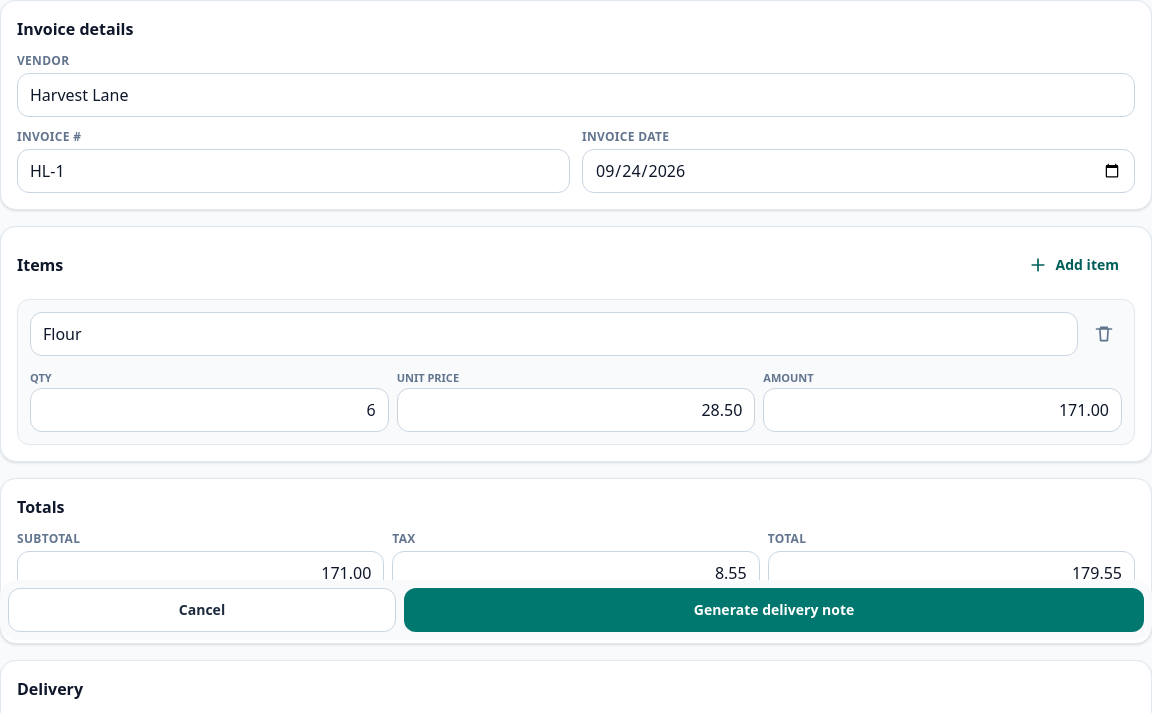
ReviewForm › recomputes a line amount when qty or unit price is edited
Step 1. Replace the text in the number field named "Item 1 quantity" with "10" → (209, 410), box [30,388,389,432]
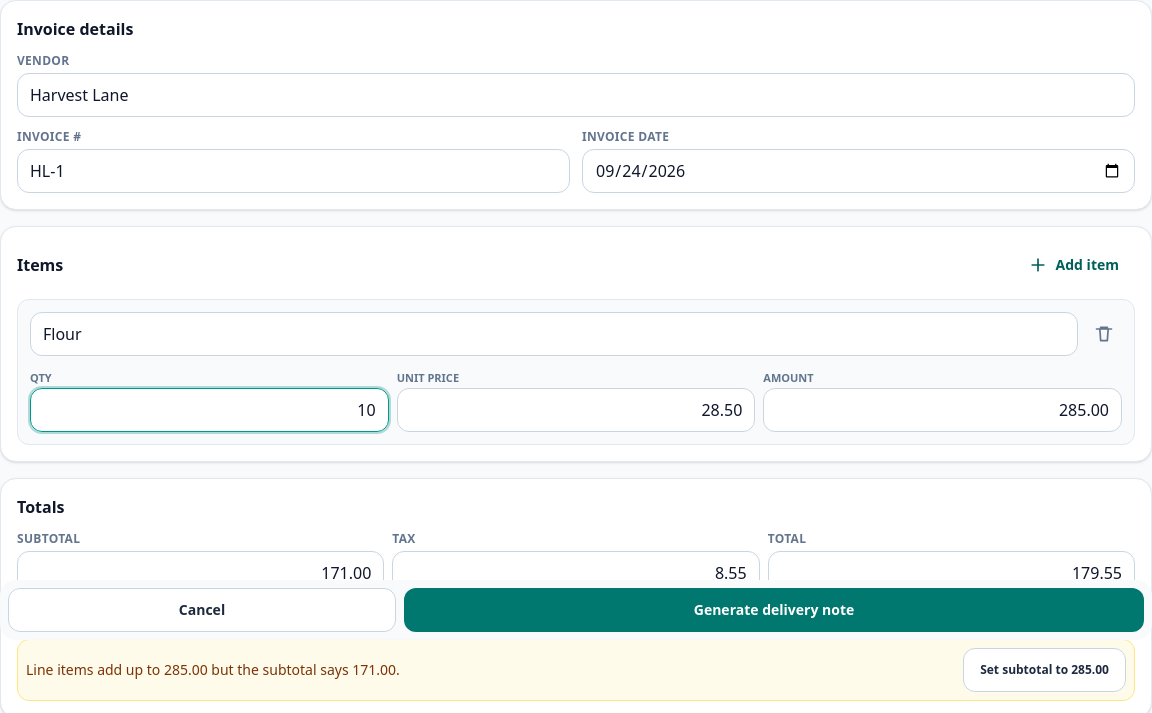
Expected: the number field named "Item 1 amount" holds "285", [763,388,1122,432]
